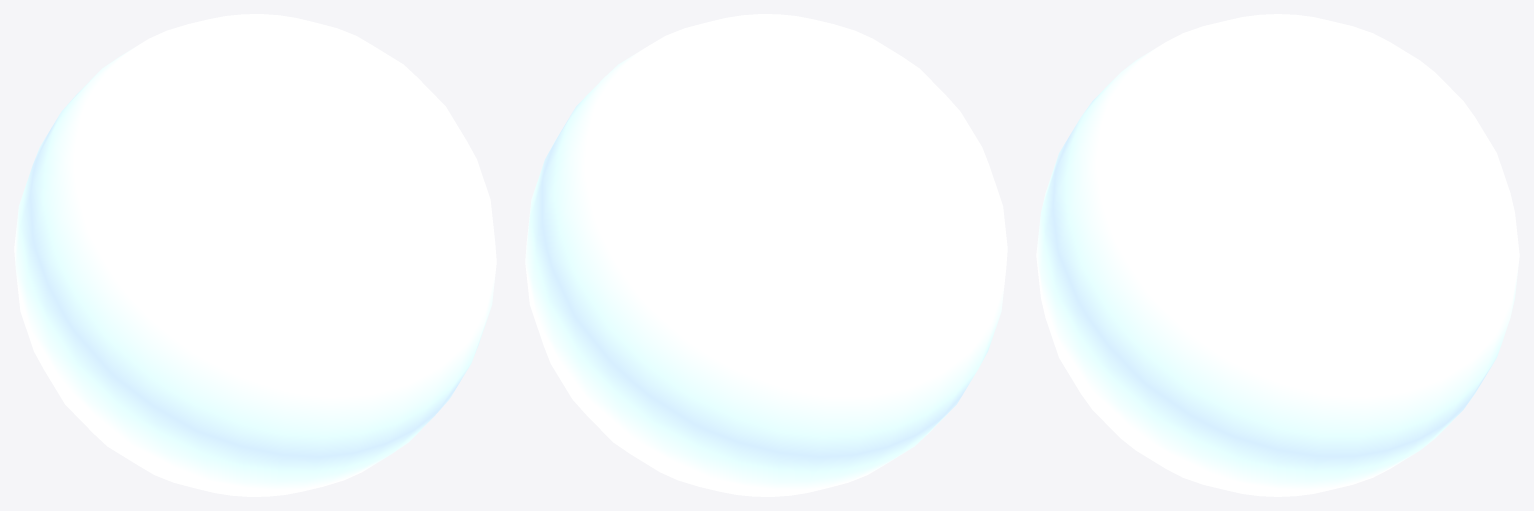
The model's file is Dron.fbx.
3 renders of one model, left to right at view 1: azimuth 30°, elevation 25°; view 2: azimuth 150°, elevation 25°; view 3: azimuth 270°, elevation 25°, orthographic.
Parts seen in each view (by area): view 1: Щит; view 2: Щит; view 3: Щит.
Boxes of the visible parts, x1=… form: Щит: x1=14, y1=14, x2=496, y2=496; Щит: x1=525, y1=14, x2=1007, y2=496; Щит: x1=1036, y1=14, x2=1519, y2=496.
Size of the model in its own units: 171 by 171 by 171.
